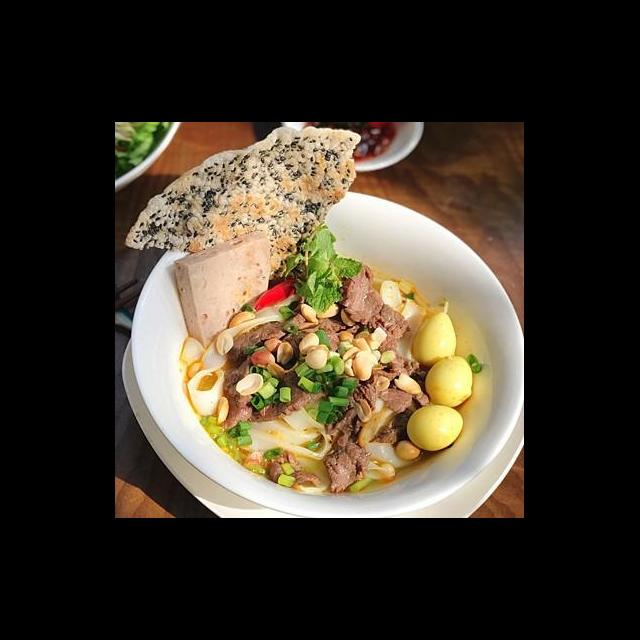banh da: (124, 123, 368, 285)
mi: (178, 291, 304, 419), (240, 400, 332, 494), (376, 276, 432, 367), (354, 398, 416, 470)
thit heo: (215, 311, 348, 433), (316, 376, 422, 494), (334, 263, 422, 384), (244, 446, 324, 494)
trung: (404, 401, 466, 455), (422, 352, 476, 409), (410, 308, 460, 367)
